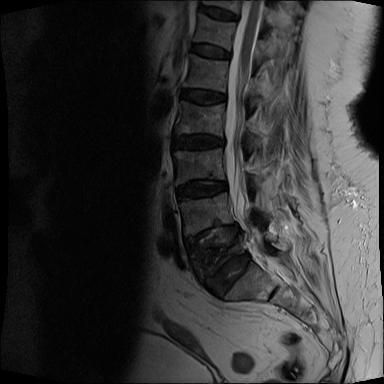Degenerative Disc Disease (DDD): (165, 132, 229, 154), (193, 4, 243, 28)
Lumbar Disc Bulge (LDB): (204, 244, 265, 305), (180, 216, 248, 251), (173, 175, 231, 204), (172, 84, 229, 109)
Normal IVD: (180, 43, 234, 65)
Spinal Stenosis (SS): (227, 215, 248, 247), (237, 245, 258, 269), (217, 131, 230, 150)
